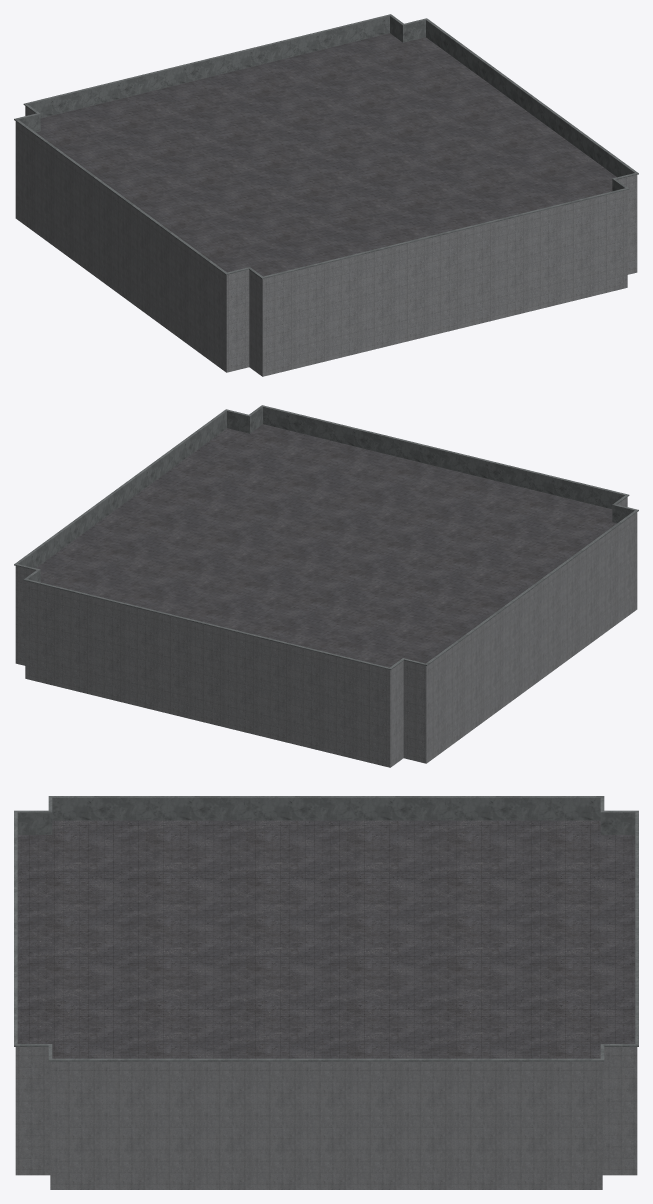
File: jctBld50A_top.fbx
3 views of the same model, one above another, from view 1: azimuth 30°, elevation 25°; view 2: azimuth 150°, elevation 25°; view 3: azimuth 270°, elevation 25° (orthographic). The views are drawn at different scales.
Visible parts, largest first — view 1: jctBld50A_top; view 2: jctBld50A_top; view 3: jctBld50A_top.
Boxes of the visible parts, bbox=[...] form: jctBld50A_top: bbox=[14, 14, 638, 376]; jctBld50A_top: bbox=[14, 405, 638, 767]; jctBld50A_top: bbox=[14, 796, 638, 1189].
Bounding box in the file's own units: 4978 × 1145 × 4978.
